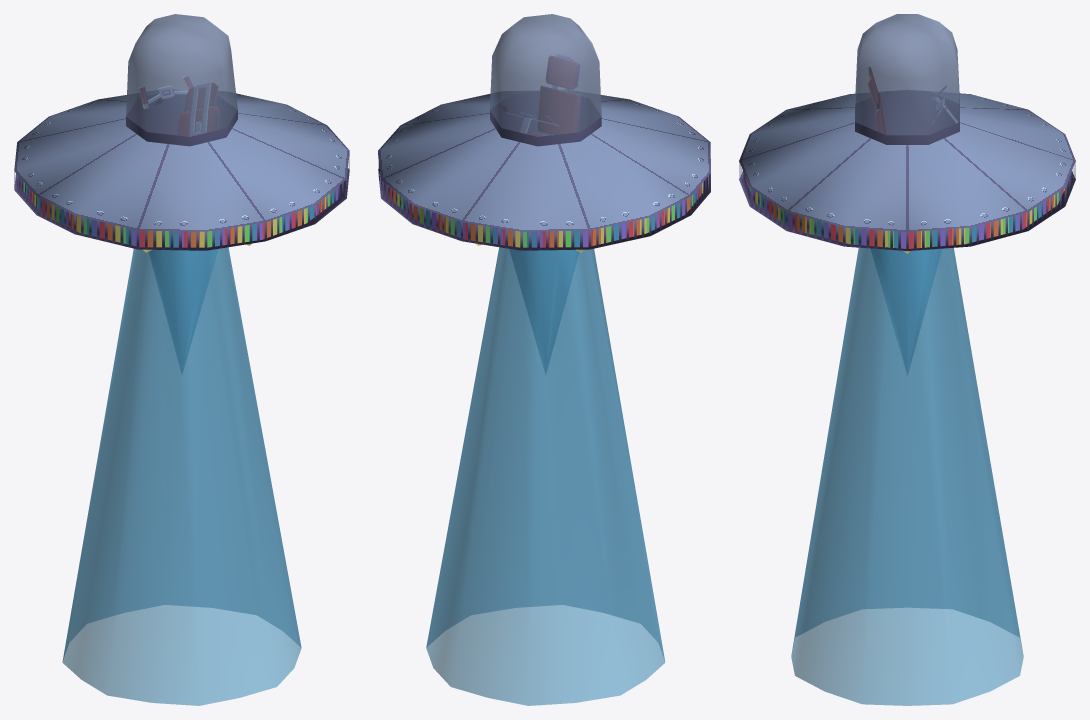
File: ufo.gltf
The picture shows the model from 3 angles, left to right: view 1: azimuth 30°, elevation 25°; view 2: azimuth 150°, elevation 25°; view 3: azimuth 270°, elevation 25°; orthographic projection.
Parts seen in each view (by area): view 1: beam, ufo, ring_light, seat, controls; view 2: beam, ufo, ring_light, seat; view 3: beam, ufo, ring_light.
Boxes of the visible parts, <box> form: beam: <box>62,247,301,705</box>; ufo: <box>14,14,349,250</box>; ring_light: <box>23,182,338,247</box>; seat: <box>178,82,219,136</box>; controls: <box>139,75,193,108</box>; beam: <box>426,247,665,705</box>; ufo: <box>378,14,710,250</box>; ring_light: <box>388,183,702,247</box>; seat: <box>531,53,580,136</box>; beam: <box>791,247,1023,705</box>; ufo: <box>739,14,1075,250</box>; ring_light: <box>746,179,1068,248</box>.
Bounding box in the file's own units: 4 × 8.31 × 4.
3 materials, 3 textured.
